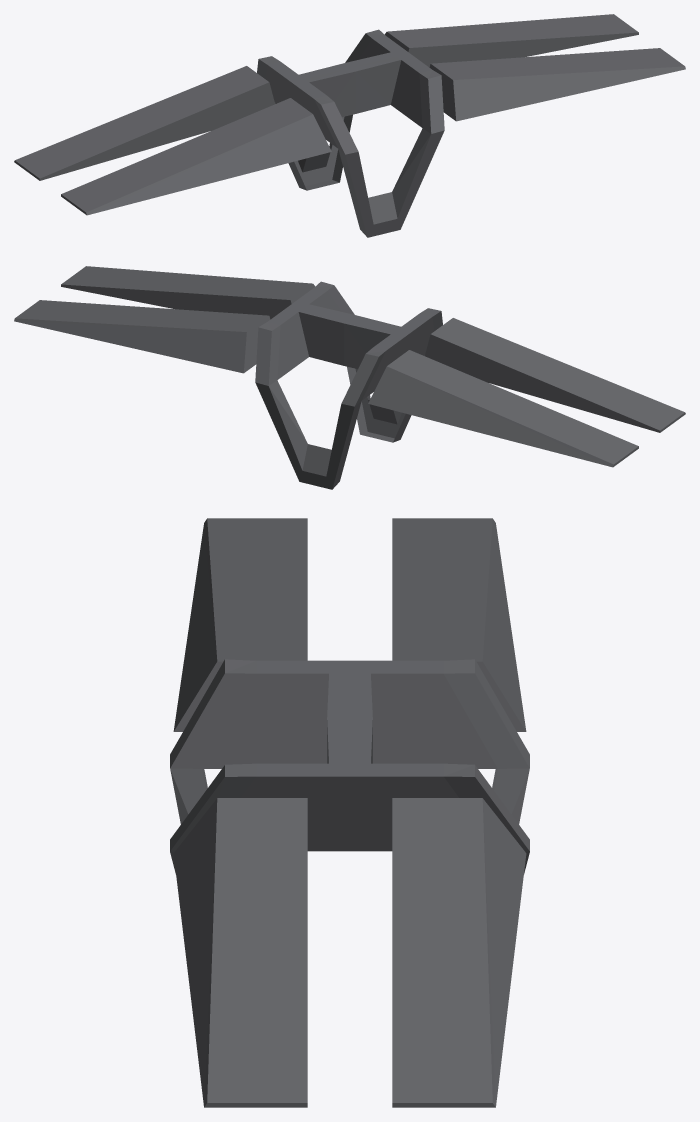
File: MilkywayChevronStatic.obj
The picture shows the model from 3 angles, top to bottom: view 1: azimuth 30°, elevation 25°; view 2: azimuth 150°, elevation 25°; view 3: azimuth 270°, elevation 25°; orthographic projection. The views are drawn at different scales.
Visible parts, largest first — view 1: StaticChevron; view 2: StaticChevron; view 3: StaticChevron.
Part boxes in pixels (x1,y1,x2,y2): StaticChevron: [14, 14, 685, 237]; StaticChevron: [14, 266, 685, 489]; StaticChevron: [170, 518, 529, 1107].
Size of the model in its own units: 1.66 by 0.3752 by 0.432.
1 material, 1 textured.
